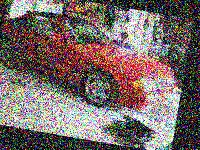car: (0, 0, 192, 124)
